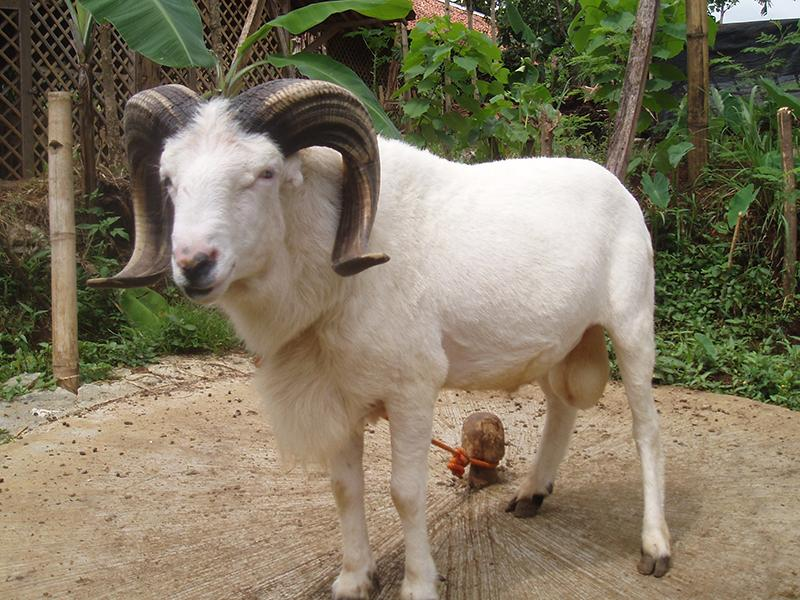Sheep: (91, 57, 403, 338)
